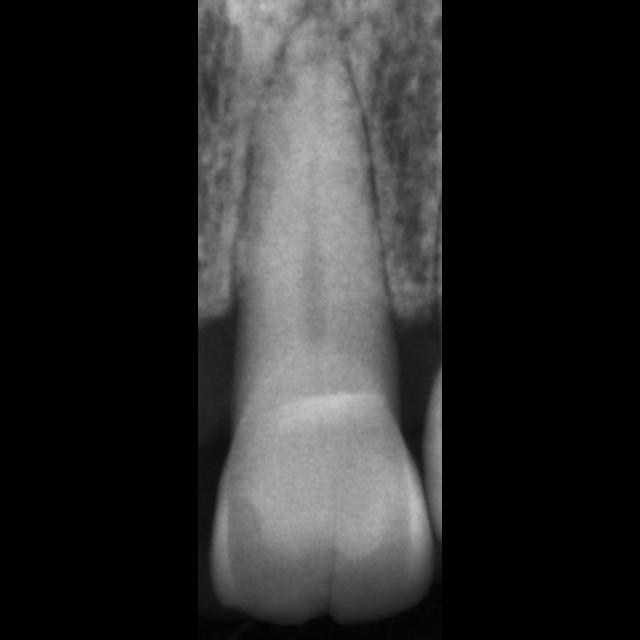tooth: (213, 13, 434, 627)
